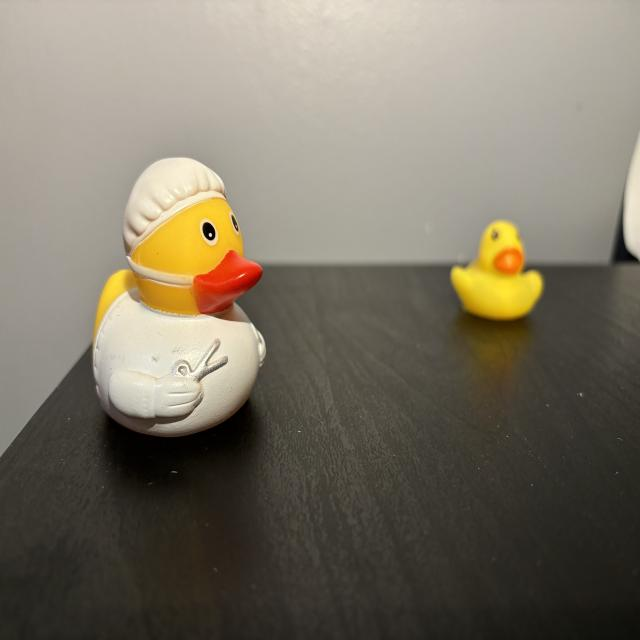duck_regular: (452, 221, 545, 322)
duck_specialty: (93, 158, 268, 437)
